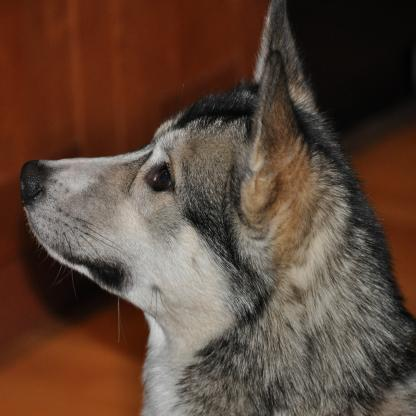husky: (17, 8, 416, 415)
